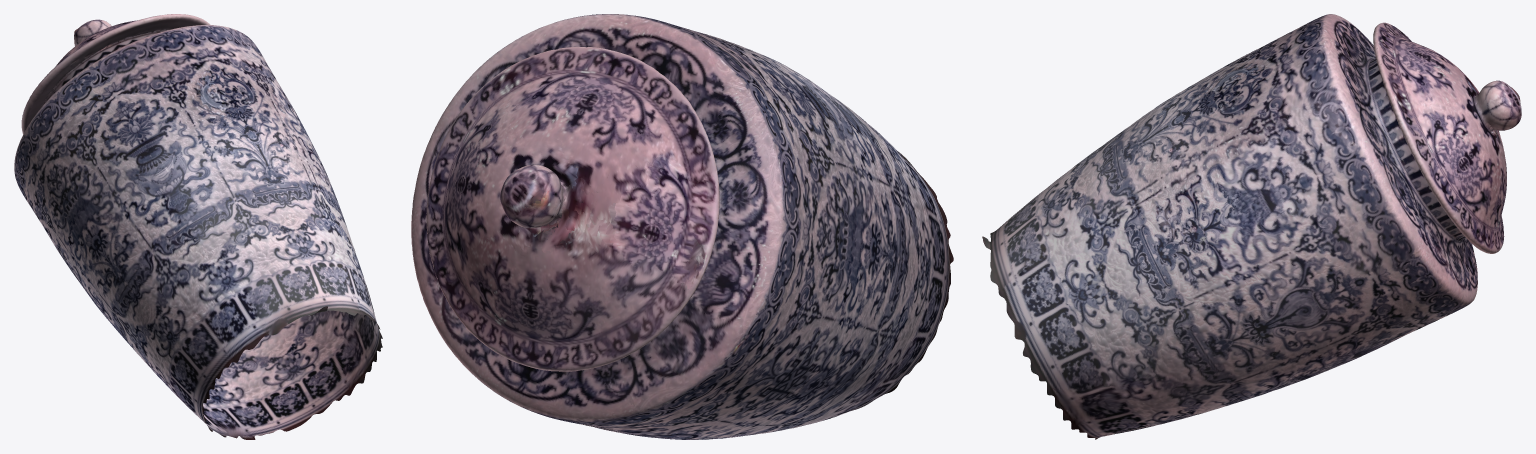
Rendered from ceramic.glb.
The picture shows the model from 3 angles, left to right: view 1: azimuth 30°, elevation 25°; view 2: azimuth 150°, elevation 25°; view 3: azimuth 270°, elevation 25°; orthographic projection. The views are drawn at different scales.
Parts seen in each view (by area): view 1: Object_3, Object_2; view 2: Object_2, Object_3; view 3: Object_3, Object_2.
Part boxes in pixels (x1,y1,x2,y2): Object_3: [21, 14, 382, 411]; Object_2: [14, 14, 352, 439]; Object_2: [415, 48, 953, 439]; Object_3: [411, 14, 948, 387]; Object_3: [982, 14, 1471, 425]; Object_2: [1071, 22, 1521, 439].
Bounding box in the file's own units: 485 × 646 × 802.
Materials: 1 (1 with a texture image).
